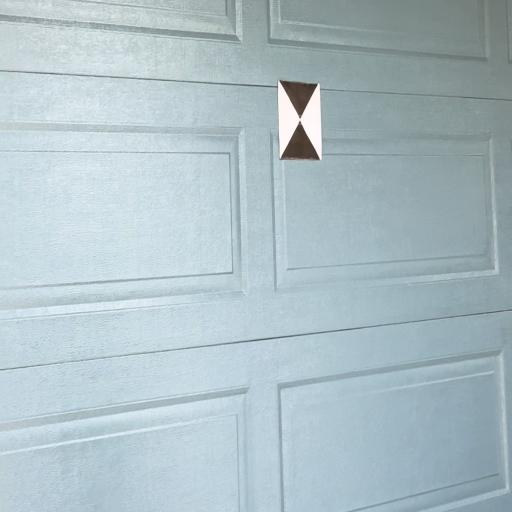target: (279, 79, 322, 159)
